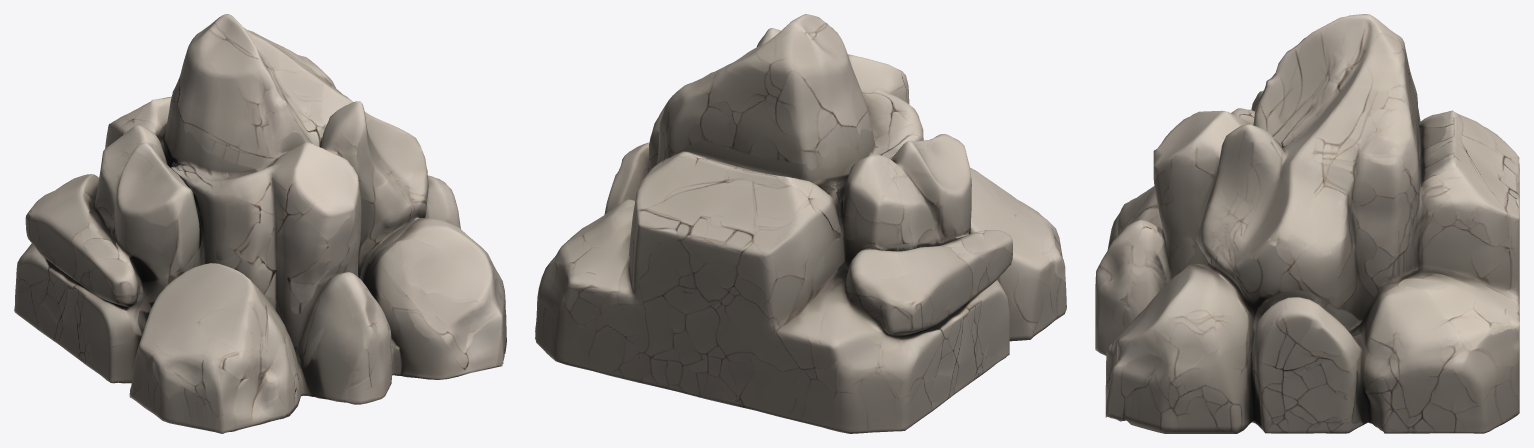
Rendered from realistic-rock.glb.
3 views of the same model, side by side, from view 1: azimuth 30°, elevation 25°; view 2: azimuth 150°, elevation 25°; view 3: azimuth 270°, elevation 25° (orthographic). The views are drawn at different scales.
Parts seen in each view (by area): view 1: model; view 2: model; view 3: model.
Boxes of the visible parts, bbox=[...] form: model: bbox=[14, 14, 506, 433]; model: bbox=[535, 14, 1066, 433]; model: bbox=[1095, 14, 1519, 433].
Bounding box in the file's own units: 1.9 × 1.59 × 1.89.
Materials: 1 (1 with a texture image).
